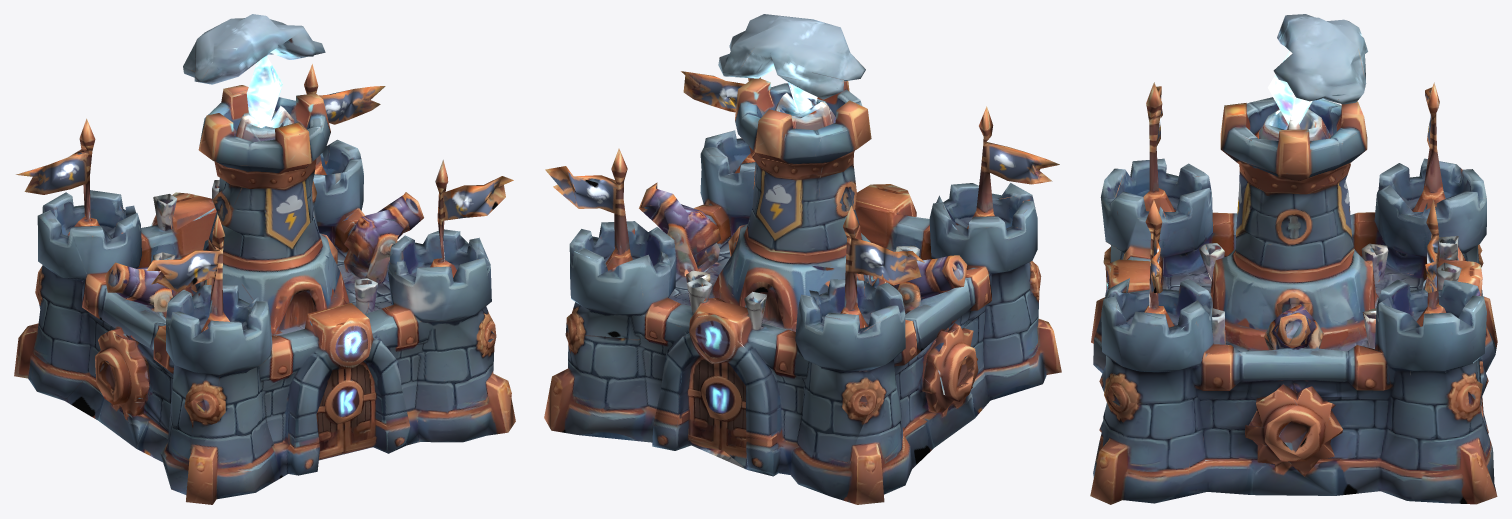
The model's file is Meshy_AI_게임에서_배치할_0608200219_texture.fbx.
The picture shows the model from 3 angles, left to right: view 1: azimuth 30°, elevation 25°; view 2: azimuth 150°, elevation 25°; view 3: azimuth 270°, elevation 25°; orthographic projection. The views are drawn at different scales.
Parts seen in each view (by area): view 1: Mesh1.0; view 2: Mesh1.0; view 3: Mesh1.0.
Part boxes in pixels (bbox=[...]): Mesh1.0: bbox=[14, 14, 515, 504]; Mesh1.0: bbox=[544, 14, 1061, 504]; Mesh1.0: bbox=[1090, 14, 1497, 504].
Size of the model in its own units: 190 by 184 by 170.
Materials: 1 (1 with a texture image).
